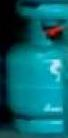cylinder: (1, 1, 68, 138)
